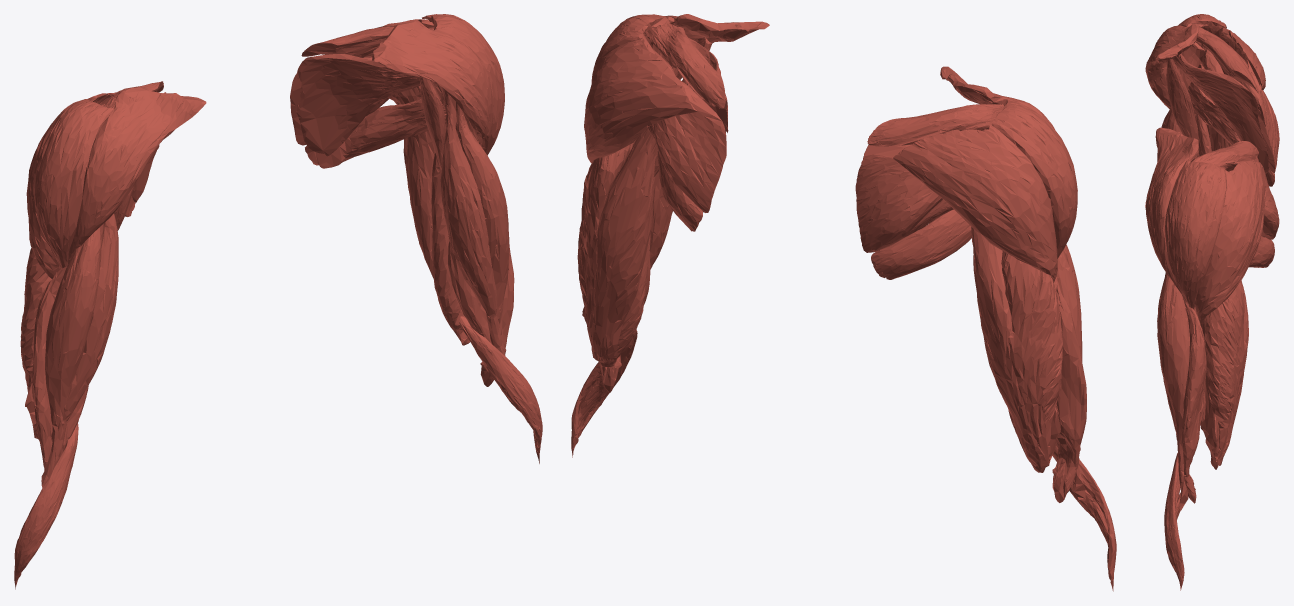
Rendered from human_muscles_arm.glb.
3 renders of one model, left to right at view 1: azimuth 30°, elevation 25°; view 2: azimuth 150°, elevation 25°; view 3: azimuth 270°, elevation 25°, orthographic. The views are drawn at different scales.
Visible parts, largest first — view 1: deltoideus_clavicular_R, subscapularis_L, deltoideus_acromial_R, biceps_brachii_long_head_R, deltoideus_clavicular_L, biceps_brachii_short_head_L, biceps_brachii_long_head_L, biceps_brachii_short_head_R, teres_major_L, triceps_brachii_long_head_L, brachialis_R, pronator_teres_humeral_head_R (+8 smaller); view 2: deltoideus_spinal_R, triceps_brachii_long_head_L, deltoideus_spinal_L, triceps_brachii_lateral_head_R, infraspinatus_L, infraspinatus_R, triceps_brachii_long_head_R, deltoideus_acromial_R, brachialis_R, triceps_brachii_lateral_head_L, teres_major_R, supraspinatus_R (+11 smaller); view 3: deltoideus_acromial_L, deltoideus_spinal_L, triceps_brachii_lateral_head_L, biceps_brachii_long_head_L, deltoideus_clavicular_L, subscapularis_R, brachialis_L, deltoideus_clavicular_R, pronator_teres_humeral_head_L, coracobrachialis_R, infraspinatus_R, teres_major_R (+11 smaller).
Part boxes in pixels (x1,y1,x2,y2): deltoideus_clavicular_R: [67, 87, 206, 263]; subscapularis_L: [295, 54, 431, 156]; deltoideus_acromial_R: [33, 99, 113, 268]; biceps_brachii_long_head_R: [41, 226, 101, 487]; deltoideus_clavicular_L: [372, 19, 493, 152]; biceps_brachii_short_head_L: [440, 88, 497, 317]; biceps_brachii_long_head_L: [455, 102, 509, 355]; biceps_brachii_short_head_R: [63, 213, 118, 421]; teres_major_L: [305, 98, 446, 168]; triceps_brachii_long_head_L: [388, 86, 435, 278]; brachialis_R: [32, 266, 88, 470]; pronator_teres_humeral_head_R: [14, 423, 78, 589]; deltoideus_spinal_R: [891, 124, 1057, 282]; triceps_brachii_long_head_L: [590, 128, 657, 361]; deltoideus_spinal_L: [584, 38, 701, 163]; triceps_brachii_lateral_head_R: [1001, 251, 1062, 469]; infraspinatus_L: [641, 34, 726, 212]; infraspinatus_R: [855, 148, 942, 252]; triceps_brachii_long_head_R: [971, 227, 1045, 467]; deltoideus_acromial_R: [991, 99, 1077, 258]; brachialis_R: [1052, 277, 1086, 502]; triceps_brachii_lateral_head_L: [577, 140, 635, 360]; teres_major_R: [871, 209, 971, 279]; supraspinatus_R: [867, 104, 1004, 146]; deltoideus_acromial_L: [1165, 160, 1226, 308]; deltoideus_spinal_L: [1195, 161, 1265, 323]; triceps_brachii_lateral_head_L: [1202, 282, 1247, 465]; biceps_brachii_long_head_L: [1157, 273, 1189, 510]; deltoideus_clavicular_L: [1145, 127, 1198, 304]; subscapularis_R: [1173, 53, 1269, 173]; brachialis_L: [1181, 302, 1206, 503]; deltoideus_clavicular_R: [1145, 23, 1198, 109]; pronator_teres_humeral_head_L: [1164, 453, 1184, 590]; coracobrachialis_R: [1166, 59, 1199, 158]; infraspinatus_R: [1206, 30, 1279, 173]; teres_major_R: [1188, 82, 1274, 186].
Size of the model in its own units: 0.3136 by 0.266 by 0.0812.
